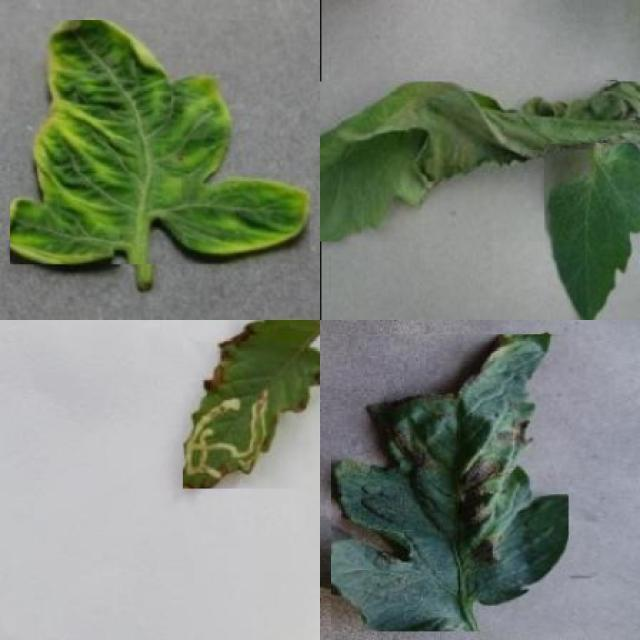Early Blight: (330, 334, 569, 632)
Healthy: (544, 143, 640, 320)
Late Blight: (320, 81, 640, 242)
Leaf Miner: (183, 320, 320, 489)
Yellow Leaf Curl Virus: (10, 20, 310, 264)
